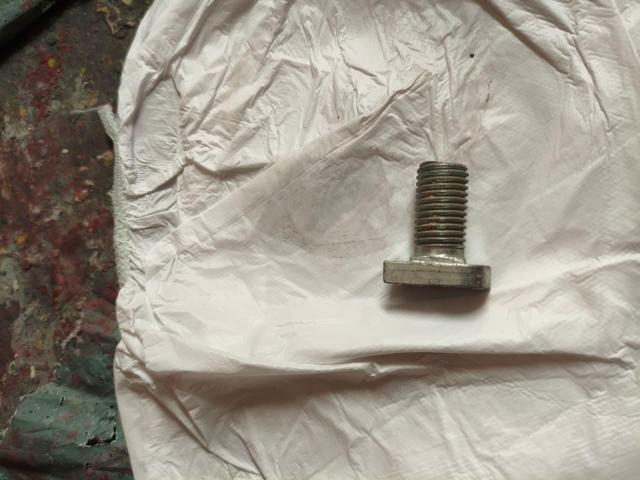Metal: (380, 160, 495, 300)
